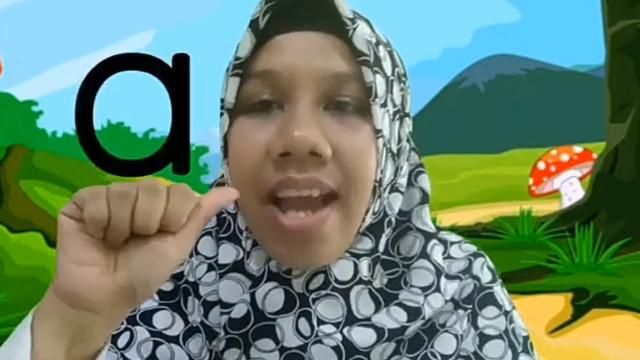A: (53, 177, 241, 311)
